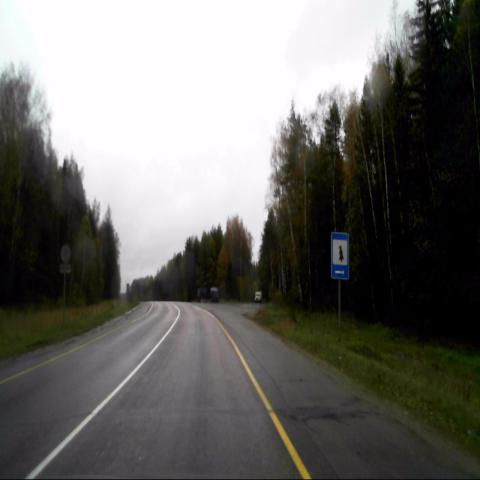7_11: (330, 230, 348, 280)
